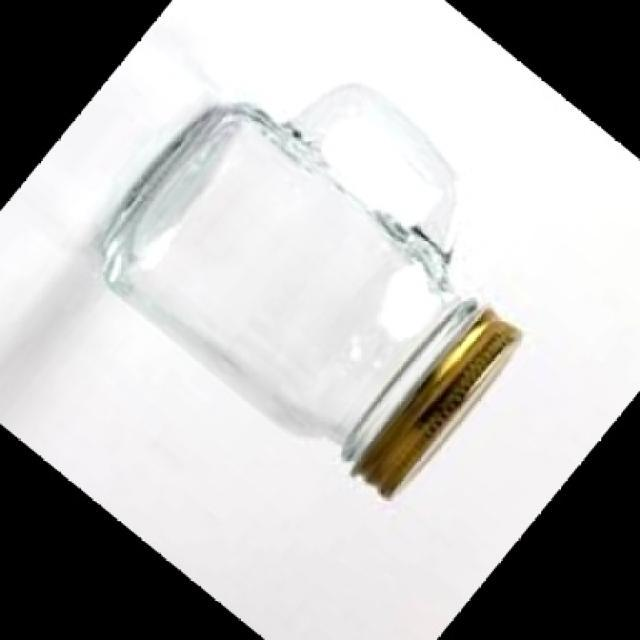Glass: (100, 81, 524, 502)
